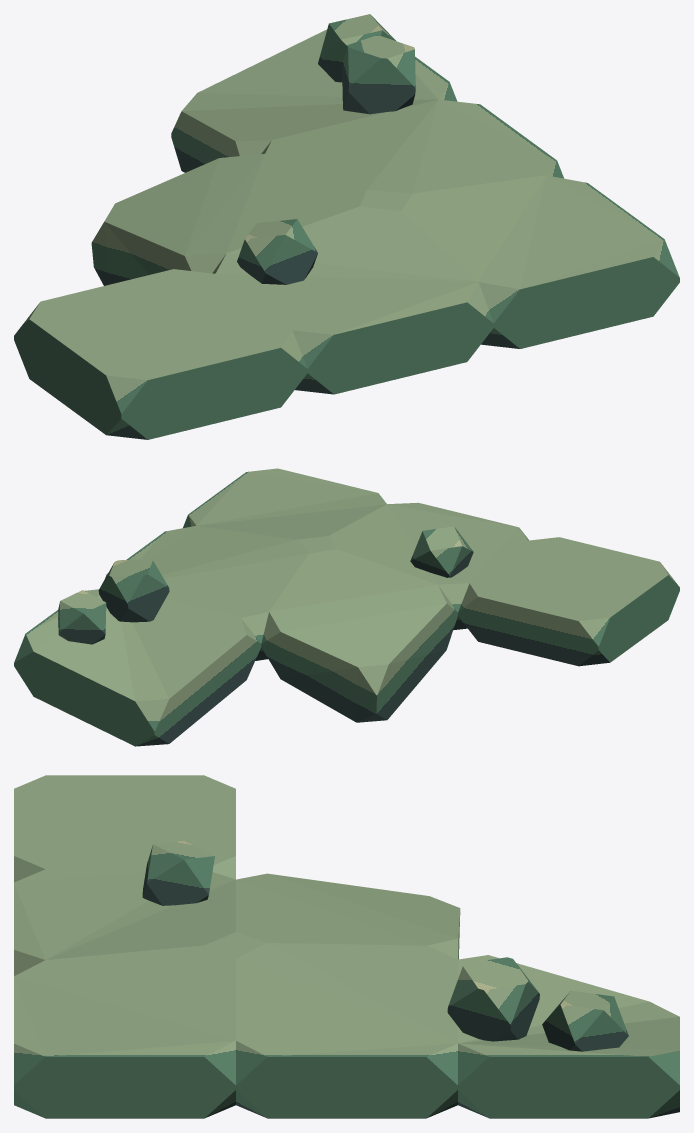
The model's file is Tiles 4.003.fbx.
The picture shows the model from 3 angles, top to bottom: view 1: azimuth 30°, elevation 25°; view 2: azimuth 150°, elevation 25°; view 3: azimuth 270°, elevation 25°; orthographic projection. The views are drawn at different scales.
Visible parts, largest first — view 1: Tiles 4.003; view 2: Tiles 4.003; view 3: Tiles 4.003.
Part boxes in pixels (left/top/right/bottom): Tiles 4.003: left=14, top=14, right=679, bottom=439; Tiles 4.003: left=14, top=468, right=679, bottom=746; Tiles 4.003: left=14, top=775, right=679, bottom=1118.
Bounding box in the file's own units: 495 × 132 × 495.
